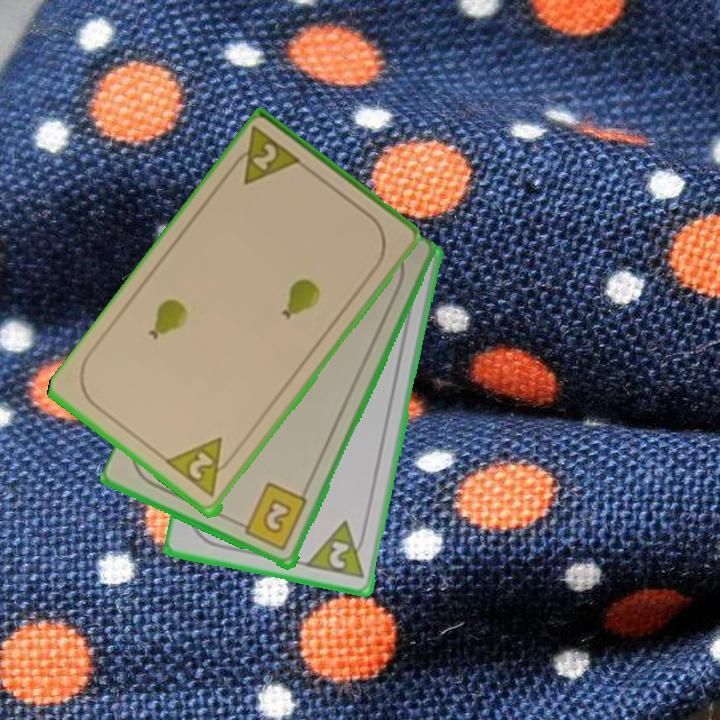2b: (234, 480, 311, 554)
2p: (164, 434, 239, 502), (304, 518, 370, 582), (248, 139, 280, 174)
